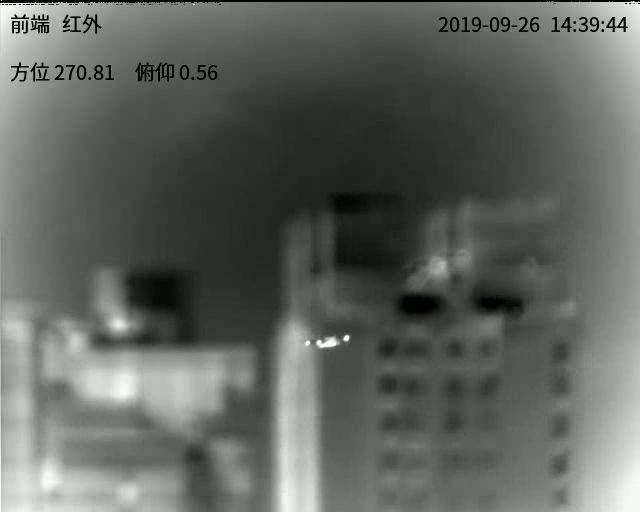DRONE: (303, 333, 352, 350)
